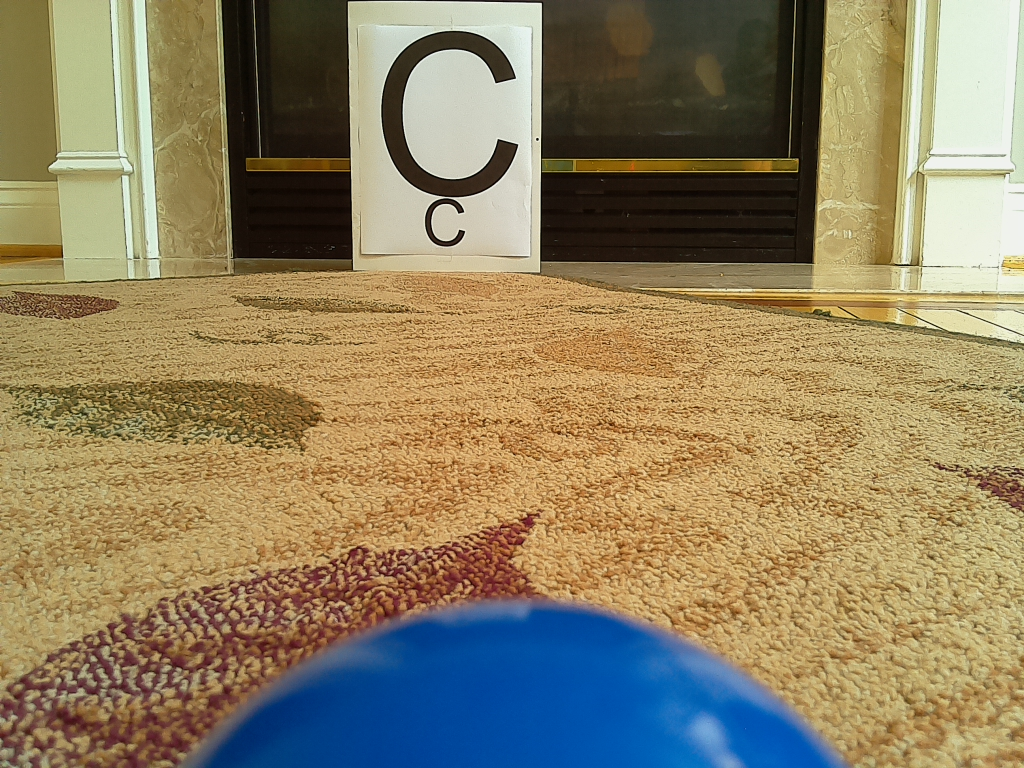letter: (381, 32, 516, 197)
